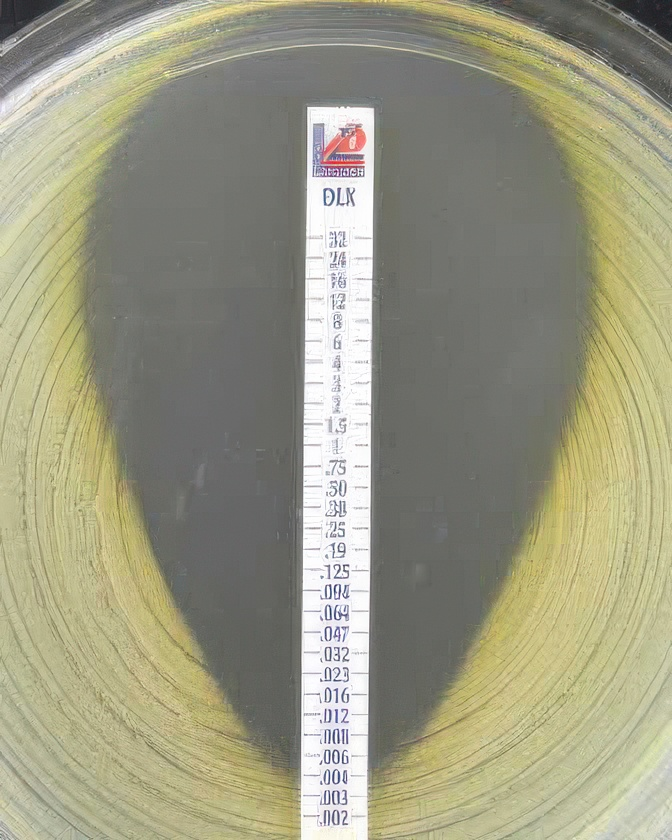line: (295, 104, 379, 840)
